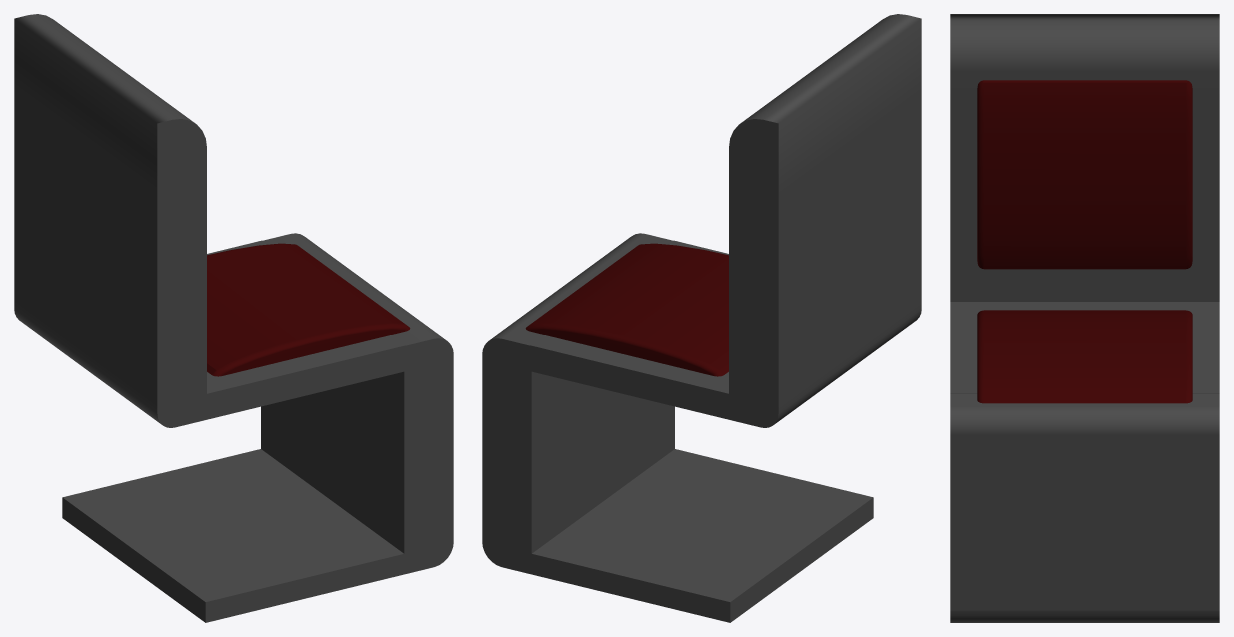
The model's file is Chair.fbx.
3 views of the same model, side by side, from view 1: azimuth 30°, elevation 25°; view 2: azimuth 150°, elevation 25°; view 3: azimuth 270°, elevation 25° (orthographic). The views are drawn at different scales.
Parts seen in each view (by area): view 1: pCube2, pCube1, pCylinder2; view 2: pCube2, pCube1, pCylinder2; view 3: pCube1, pCube2, pCylinder1, pCylinder2.
Part boxes in pixels (x1,y1,x2,y2): pCube2: (14,14,405,427); pCube1: (62,233,453,622); pCylinder2: (207,243,410,376); pCube2: (530,14,921,427); pCube1: (482,233,873,622); pCylinder2: (525,243,728,376); pCube1: (950,393,1219,622); pCube2: (950,14,1219,393); pCylinder1: (977,80,1192,269); pCylinder2: (977,310,1192,403).
Bounding box in the file's own units: 5.97 × 9.84 × 5.
